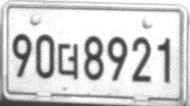0: (35, 34, 54, 78)
1: (157, 37, 172, 84)
2: (130, 37, 152, 83)
8: (84, 35, 105, 81)
9: (107, 36, 128, 81), (12, 34, 32, 77)
더: (57, 43, 79, 79)
